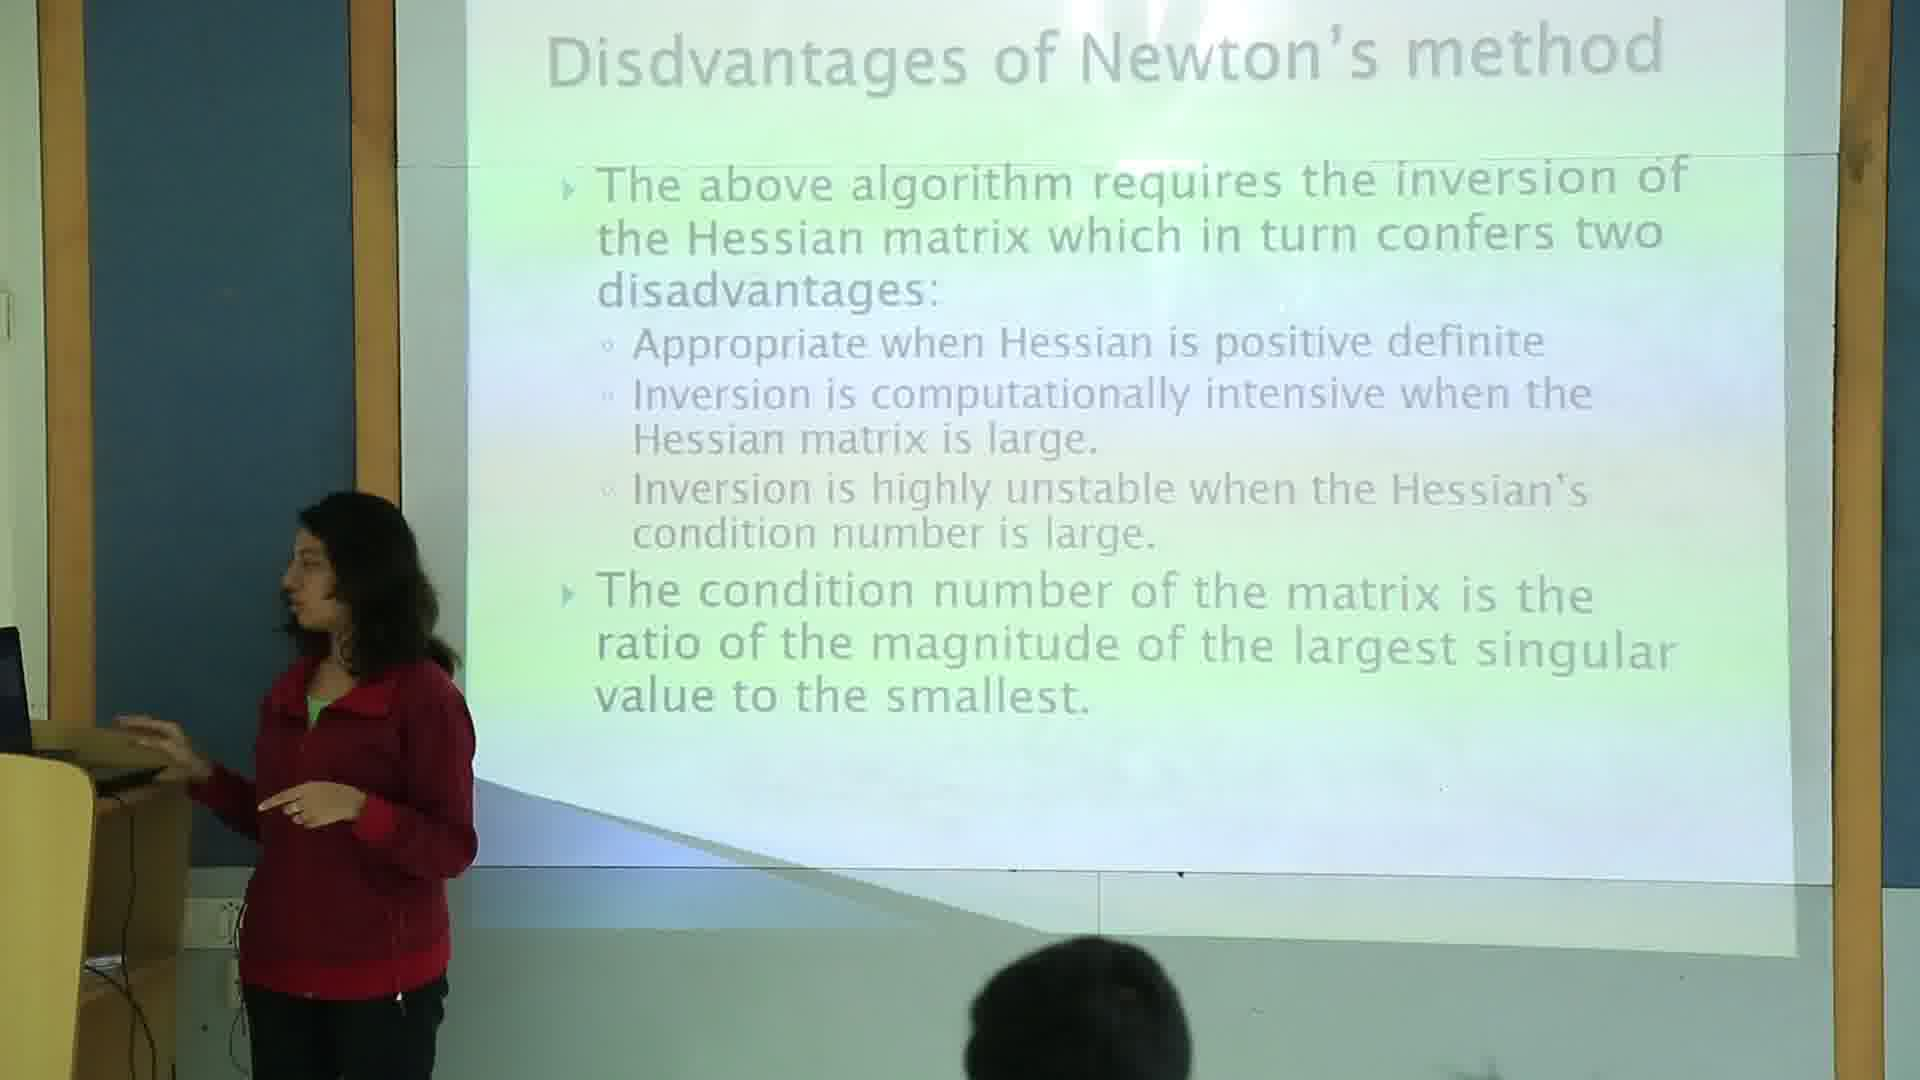slide: (465, 1, 1795, 955)
